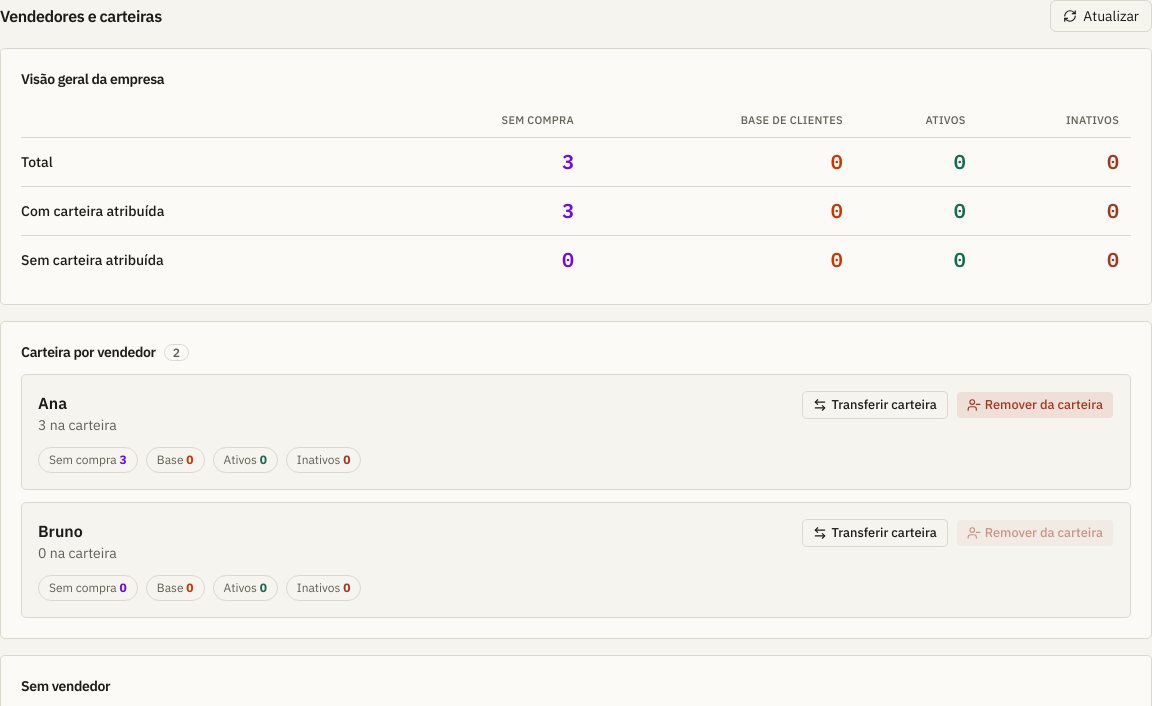
B53-14 — carteiras: total do atendente e remover sem diálogo preso › CA-B53-29: confirmar "Remover da carteira" de quem tem 3 contatos fecha o diálogo e a linha mostra 0
This screenshot has width=1152, height=706.
Click the button "Remover da carteira" in the row of "Ana" at (1035, 405), box [956, 391, 1114, 419]
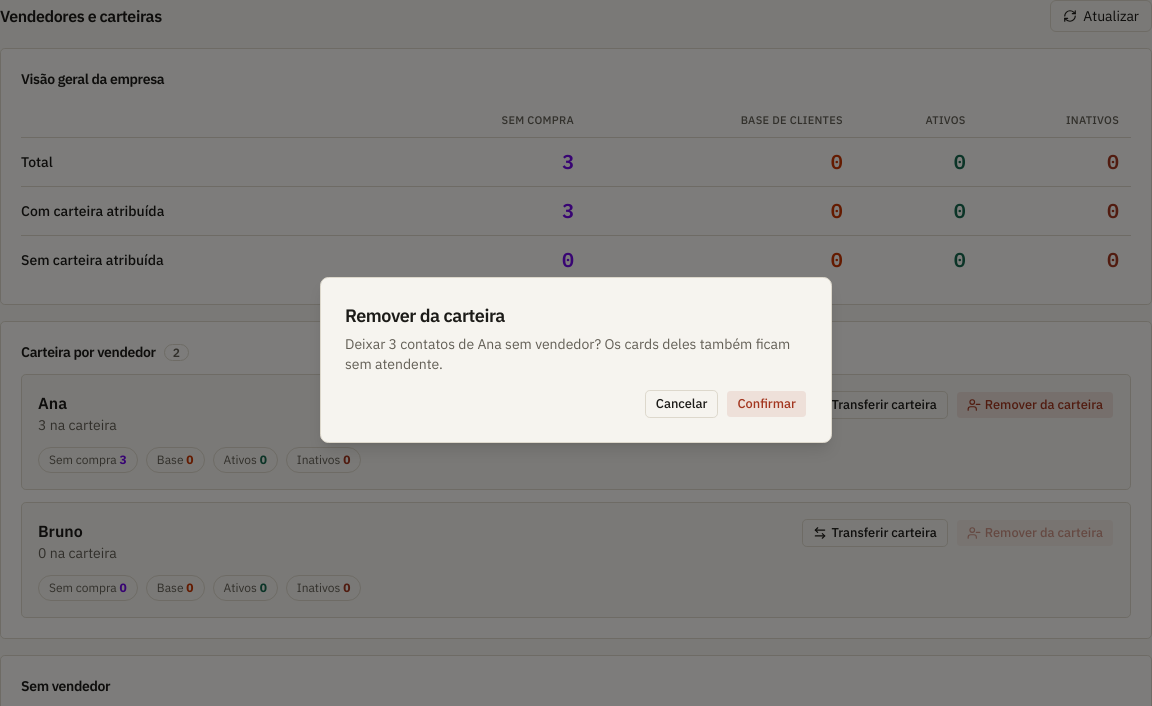
Expected: the text with test id "confirmacao-remover" shows "Deixar 3 contatos de Ana sem vendedor?", [345, 334, 807, 374]
Click the button "Confirmar" at (767, 404), box [726, 390, 807, 418]
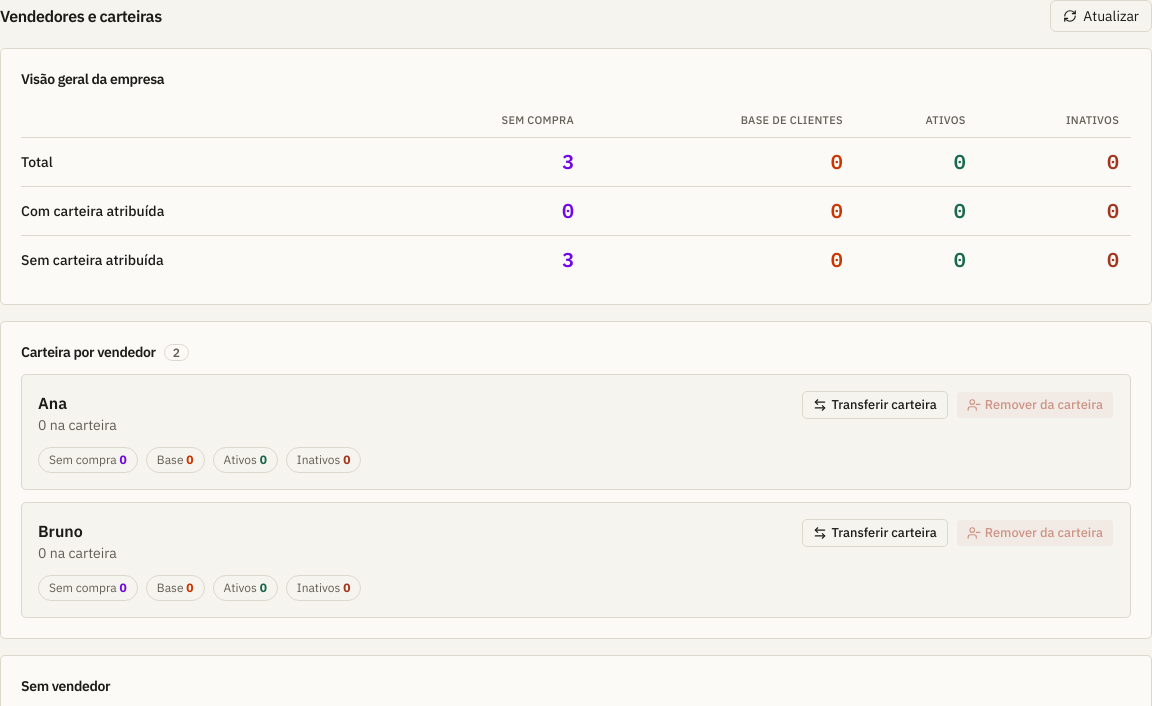
Expected: the text with test id "confirmacao-remover" is gone
